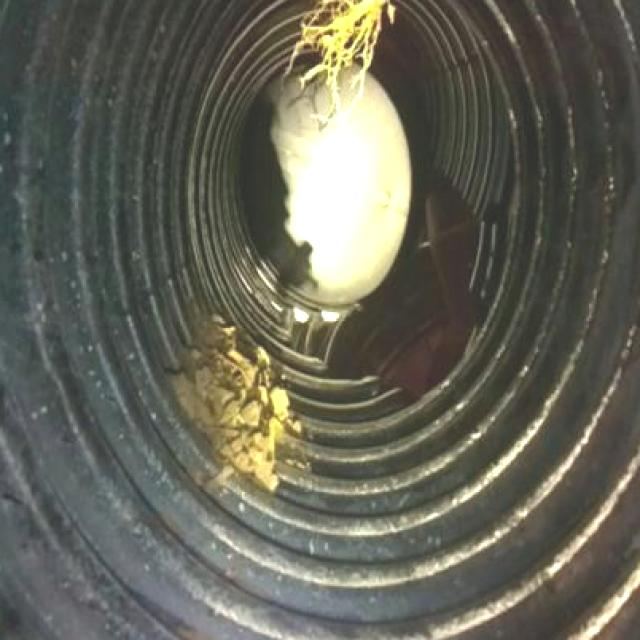dirt: (189, 322, 287, 490)
root: (283, 0, 395, 113)
